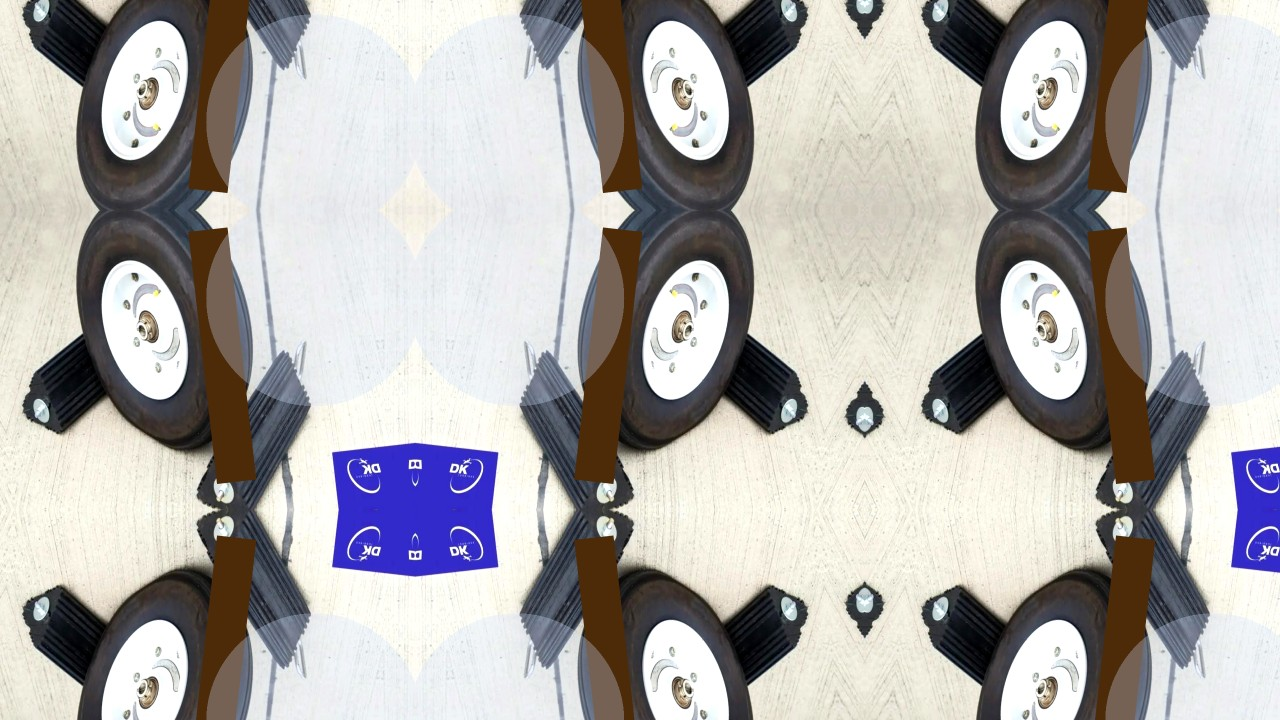chock: (180, 346, 324, 510), (506, 346, 650, 510), (1080, 346, 1224, 510), (180, 510, 324, 674), (506, 510, 650, 674), (1080, 510, 1224, 674), (13, 322, 136, 440), (694, 322, 817, 440), (913, 322, 1036, 440), (13, 580, 136, 698), (694, 580, 817, 698), (913, 580, 1036, 698), (13, 0, 136, 98), (694, 0, 817, 98), (913, 0, 1036, 98), (180, 0, 324, 74), (506, 0, 650, 74), (1080, 0, 1224, 74)
wheel: (66, 210, 262, 459), (568, 210, 764, 459), (966, 210, 1162, 459), (66, 0, 262, 210), (568, 0, 764, 210), (966, 0, 1162, 210), (66, 561, 262, 720), (568, 561, 764, 720), (966, 561, 1162, 720)
